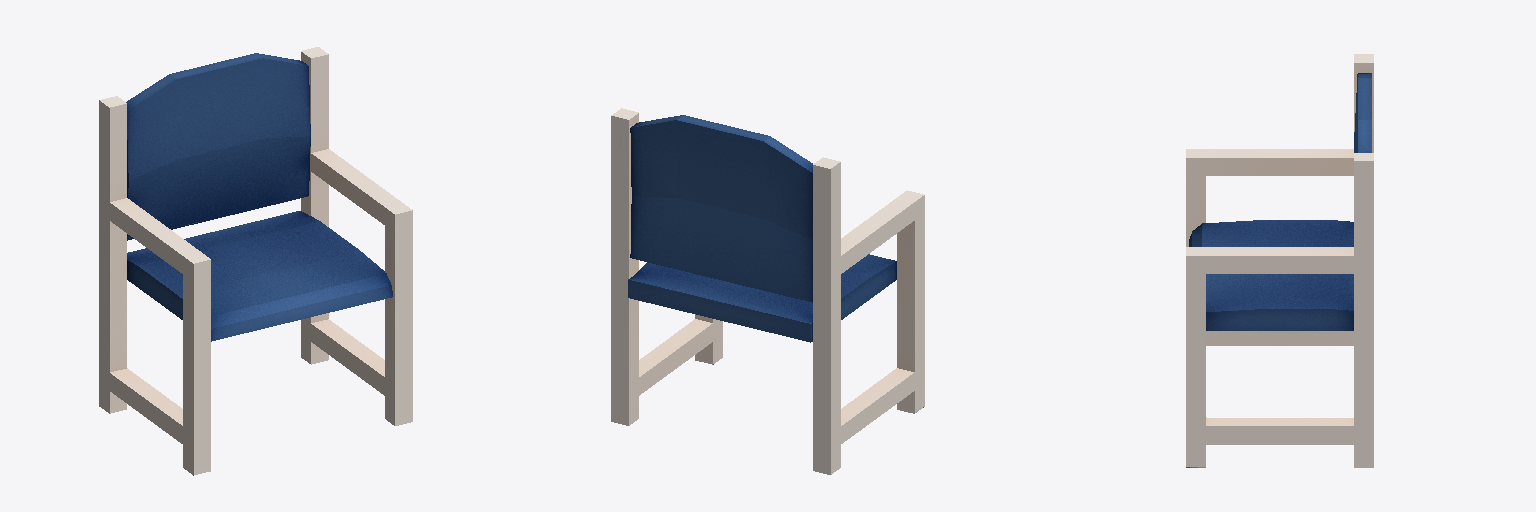
The picture shows the model from 3 angles: view 1: azimuth 30°, elevation 25°; view 2: azimuth 150°, elevation 25°; view 3: azimuth 270°, elevation 25°; orthographic projection.
Visible parts, largest first — view 1: Cube_Cube.001; view 2: Cube_Cube.001; view 3: Cube_Cube.001.
Boxes of the visible parts, x1=… form: Cube_Cube.001: x1=99, y1=47, x2=412, y2=475; Cube_Cube.001: x1=611, y1=108, x2=924, y2=474; Cube_Cube.001: x1=1186, y1=54, x2=1373, y2=467.
Size of the model in its own units: 2.29 by 3.15 by 1.71.
1 materials, 1 textured.